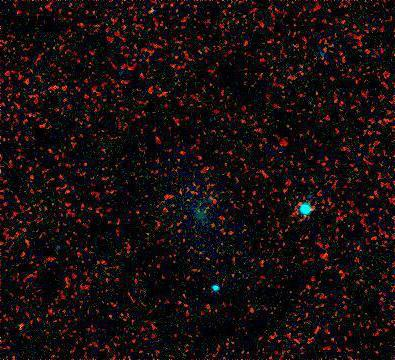star: (5, 313, 35, 343)
